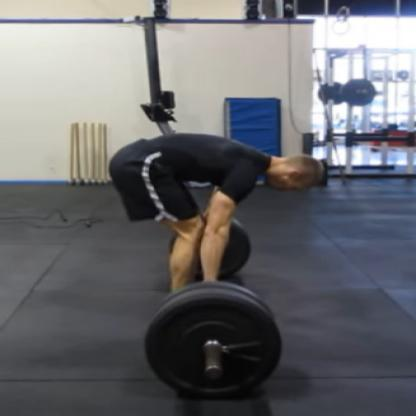barbell: (144, 215, 283, 400)
